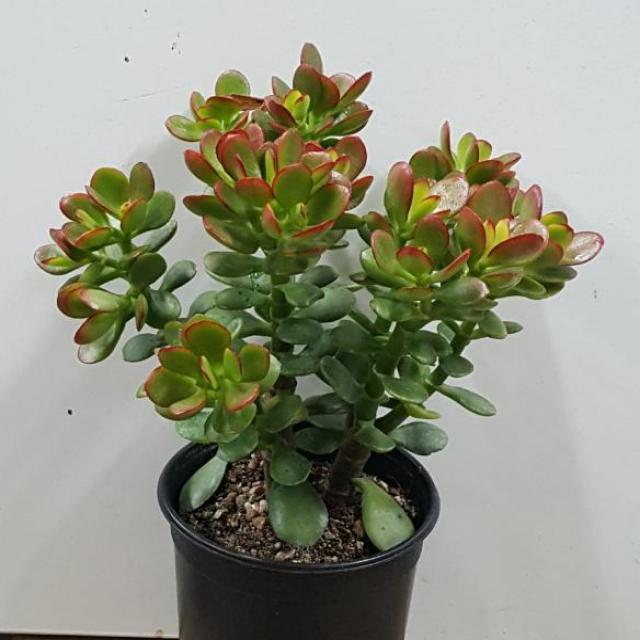Crassula: (167, 44, 371, 206), (35, 162, 196, 363), (352, 175, 518, 364), (185, 124, 354, 284), (144, 315, 280, 449), (455, 180, 602, 298), (384, 124, 520, 235)
